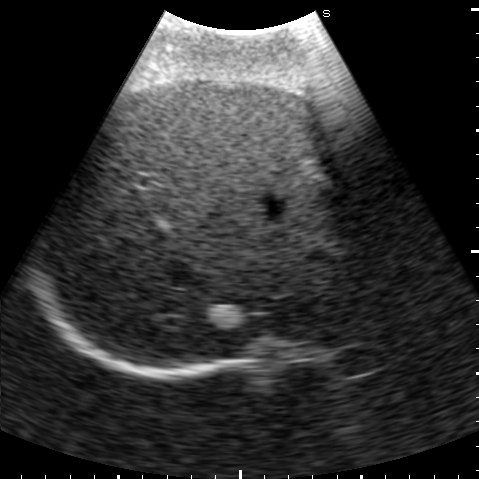S5: (105, 84, 342, 189)
S7: (52, 168, 173, 320)
S8: (132, 185, 366, 360)
Tumor: (207, 304, 246, 330)
